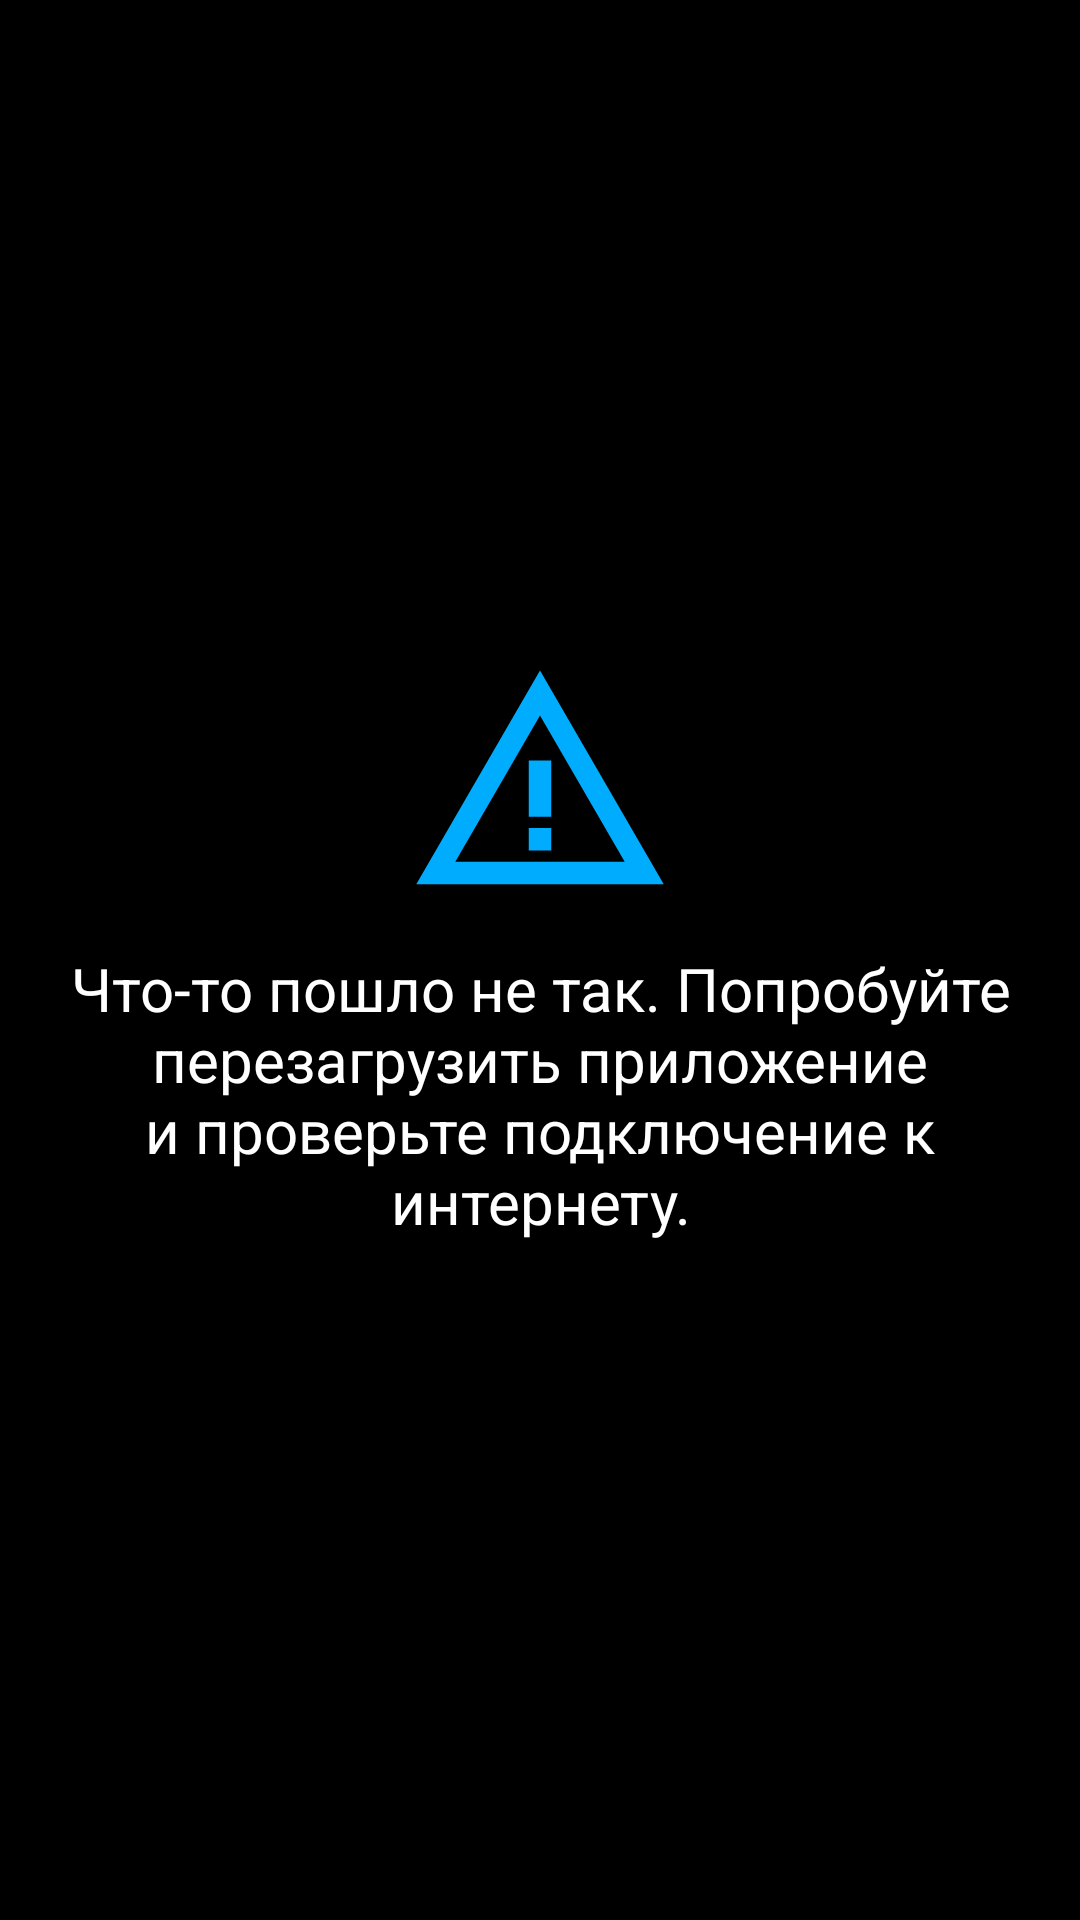

Icons on this 1080x1920 Android screen, each with the point to tap as (x,y):
warning amber: (540,778)
